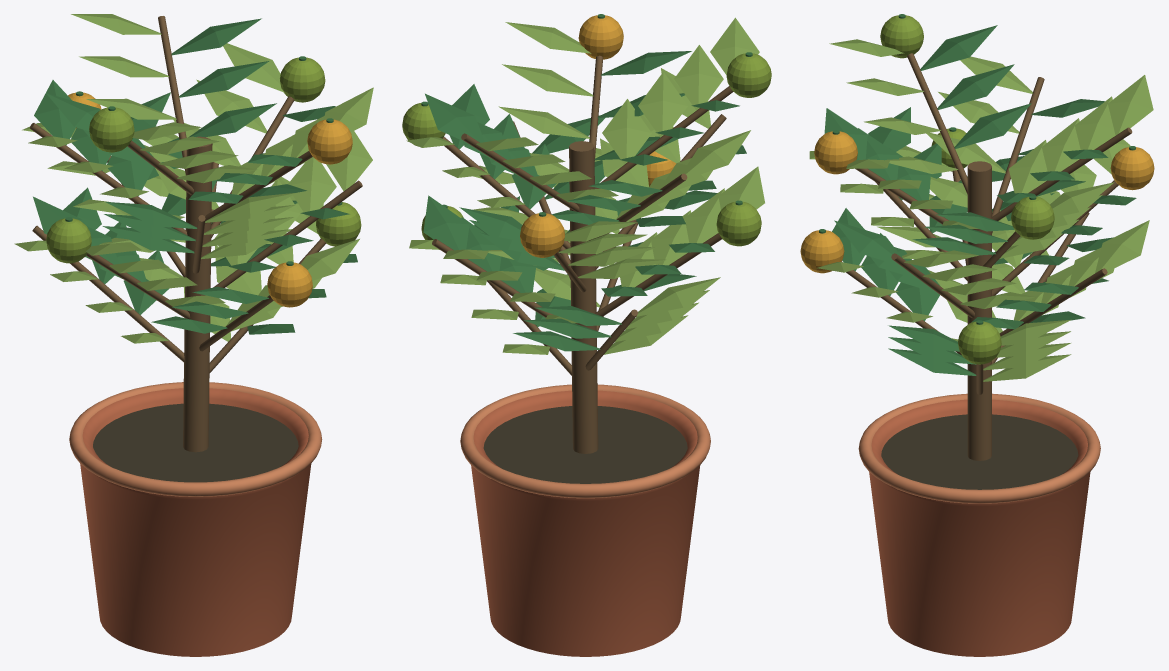
3 renders of one model, left to right at view 1: azimuth 30°, elevation 25°; view 2: azimuth 150°, elevation 25°; view 3: azimuth 270°, elevation 25°, orthographic. The views are drawn at different scales.
Visible parts, largest first — view 1: Pot, Leaves, Branches, Fruit; view 2: Pot, Leaves, Branches, Fruit; view 3: Pot, Leaves, Branches, Fruit.
Boxes of the visible parts, x1,y1,x2,y2 form: Pot: (69, 382, 322, 656); Leaves: (14, 14, 373, 343); Branches: (30, 16, 362, 452); Fruit: (46, 56, 361, 307); Pot: (460, 384, 710, 656); Leaves: (406, 17, 764, 354); Branches: (432, 55, 733, 453); Fruit: (402, 14, 771, 257); Pot: (858, 393, 1100, 656); Leaves: (809, 25, 1153, 381); Branches: (841, 53, 1132, 460); Fruit: (800, 14, 1154, 364).
Bounding box in the file's own units: 0.4074 × 0.6845 × 0.4034.
